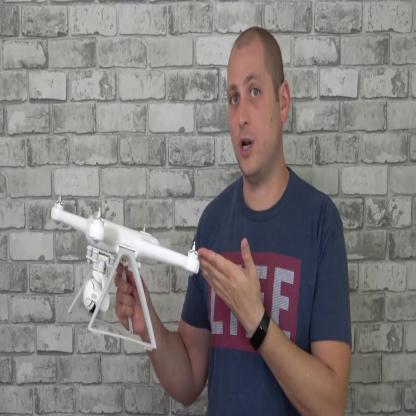drone: (46, 195, 206, 286)
